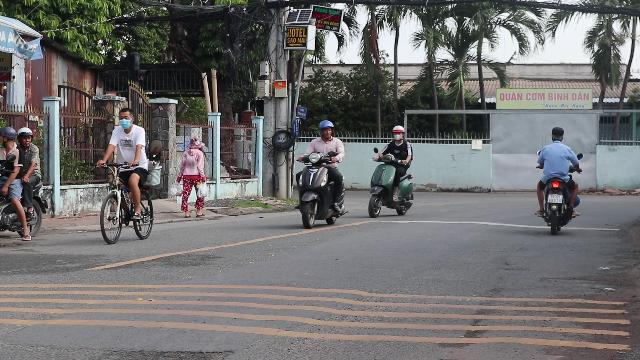helmet: (0, 126, 16, 148), (18, 126, 34, 146), (318, 120, 334, 138)
licenseplate: (549, 194, 563, 202)
motorcyclist: (292, 118, 348, 228), (0, 123, 48, 249), (532, 124, 580, 232)
nohelmet: (549, 126, 565, 142)
